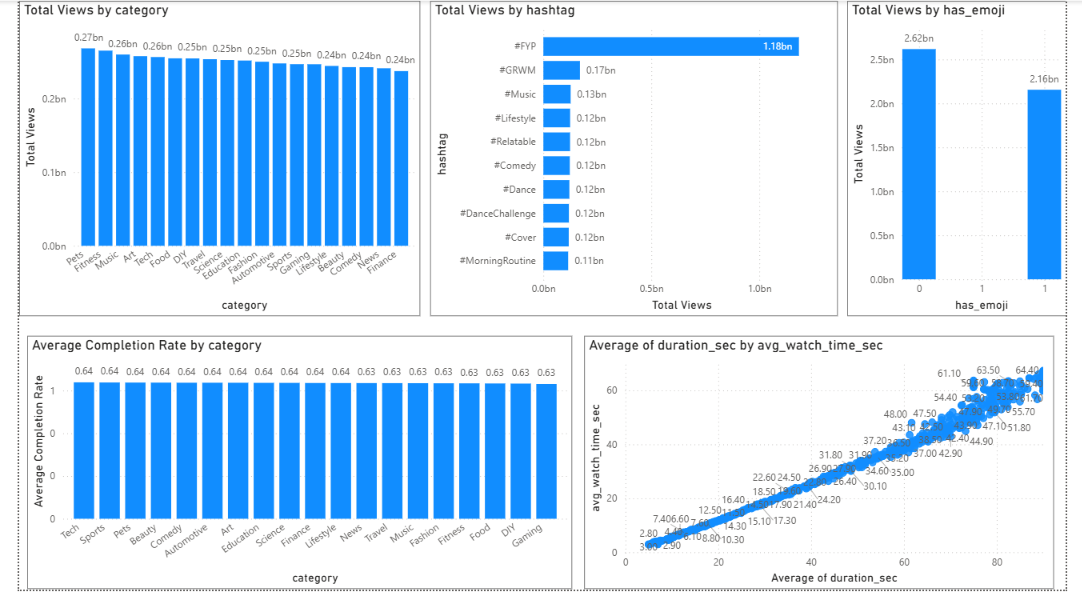

This screenshot's page, from the dashboard's own definition file:
{"tool":"powerbi","page":{"name":"Content Insights","canvas":[1280,720],"ordinal":1},"visuals":[{"type":"clusteredColumnChart","fields":{"Category":["youtube_shorts_tiktok_trends_2025.category"],"Y":["youtube_shorts_tiktok_trends_2025.Total Views"]},"box":[0,0,490.7,385.8],"z":0},{"type":"clusteredColumnChart","fields":{"Category":["youtube_shorts_tiktok_trends_2025.category"],"Y":["youtube_shorts_tiktok_trends_2025.Average Completion Rate"]},"box":[9.7,410,666.6,309.9],"z":1000},{"type":"clusteredBarChart","fields":{"Category":["youtube_shorts_tiktok_trends_2025.hashtag"],"Y":["youtube_shorts_tiktok_trends_2025.Total Views"]},"box":[502,0,498.8,385.8],"z":2000},{"type":"clusteredColumnChart","fields":{"Y":["youtube_shorts_tiktok_trends_2025.Total Views"],"Category":["youtube_shorts_tiktok_trends_2025.has_emoji"]},"box":[1012.1,0,267.9,385.8],"z":3000},{"type":"scatterChart","fields":{"X":["Avg(youtube_shorts_tiktok_trends_2025.duration_sec)"],"Y":["youtube_shorts_tiktok_trends_2025.avg_watch_time_sec"]},"box":[690.8,410,574.6,309.9],"z":4000}]}

Visuals, with their boxes in screenshot pixels (x1, y1, x2, y2), scaled from the page's 1280x720 canvas onto the 1082x595 screenshot:
clusteredColumnChart - youtube_shorts_tiktok_trends_2025.category x youtube_shorts_tiktok_trends_2025.Total Views: select_region(0, 0, 415, 319)
clusteredColumnChart - youtube_shorts_tiktok_trends_2025.category x youtube_shorts_tiktok_trends_2025.Average Completion Rate: select_region(8, 339, 572, 594)
clusteredBarChart - youtube_shorts_tiktok_trends_2025.hashtag x youtube_shorts_tiktok_trends_2025.Total Views: select_region(424, 0, 846, 319)
clusteredColumnChart - youtube_shorts_tiktok_trends_2025.Total Views x youtube_shorts_tiktok_trends_2025.has_emoji: select_region(856, 0, 1081, 319)
scatterChart - Avg(youtube_shorts_tiktok_trends_2025.duration_sec) x youtube_shorts_tiktok_trends_2025.avg_watch_time_sec: select_region(584, 339, 1070, 594)
